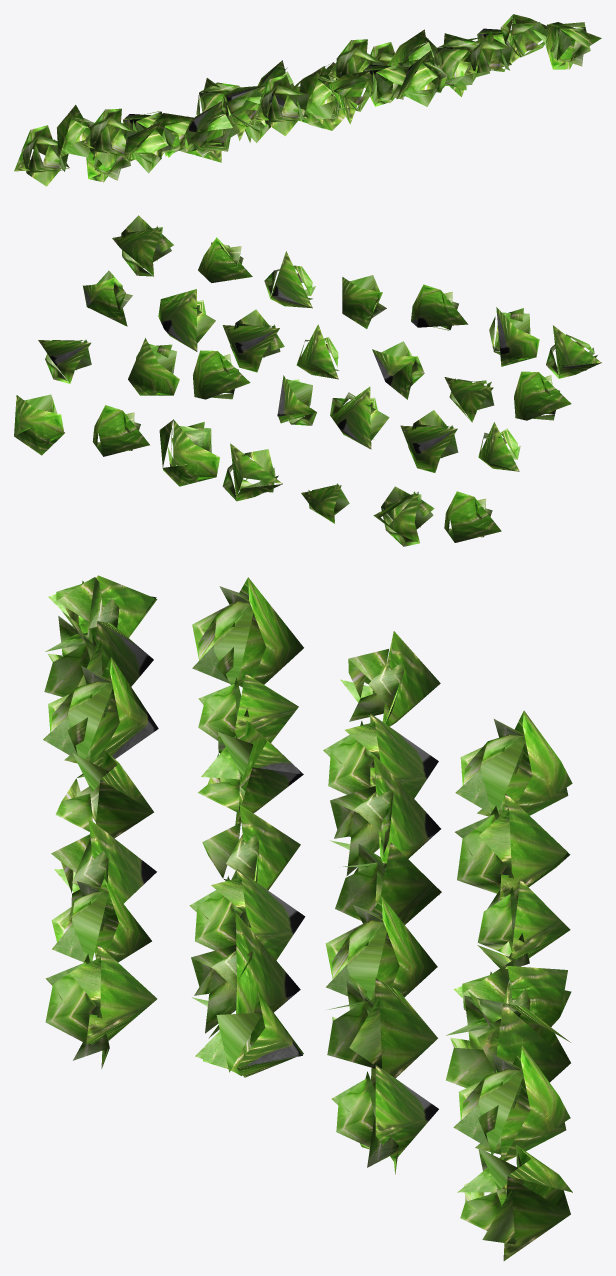
File: nt_hydro_plant_green_LOD3.obj
3 views of the same model, one above another, from view 1: azimuth 30°, elevation 25°; view 2: azimuth 150°, elevation 25°; view 3: azimuth 270°, elevation 25° (orthographic). The views are drawn at different scales.
Visible parts, largest first — view 1: mtl_hydro_plant_01; view 2: mtl_hydro_plant_01; view 3: mtl_hydro_plant_01.
Part boxes in pixels (x1,y1,x2,y2): mtl_hydro_plant_01: (14, 14, 601, 186); mtl_hydro_plant_01: (14, 215, 601, 546); mtl_hydro_plant_01: (43, 575, 572, 1260).
Size of the model in its own units: 288 by 91.8 by 137.
